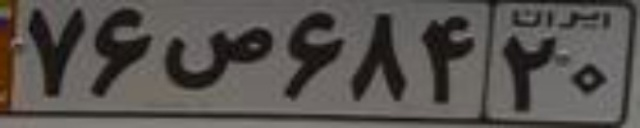0: (568, 61, 609, 94)
2: (503, 34, 559, 111)
4: (421, 14, 477, 104)
6: (88, 6, 152, 98), (282, 12, 344, 101)
7: (26, 4, 81, 98)
8: (351, 12, 409, 102)
saat: (161, 25, 274, 88)
